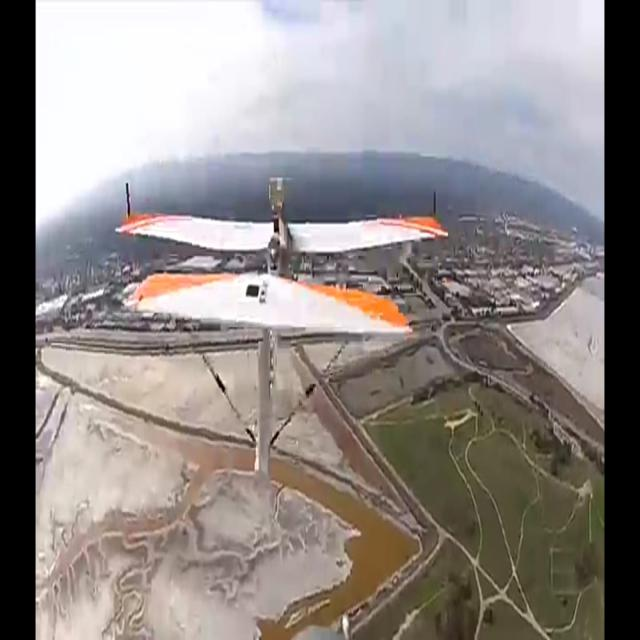iha: (115, 176, 449, 340)
